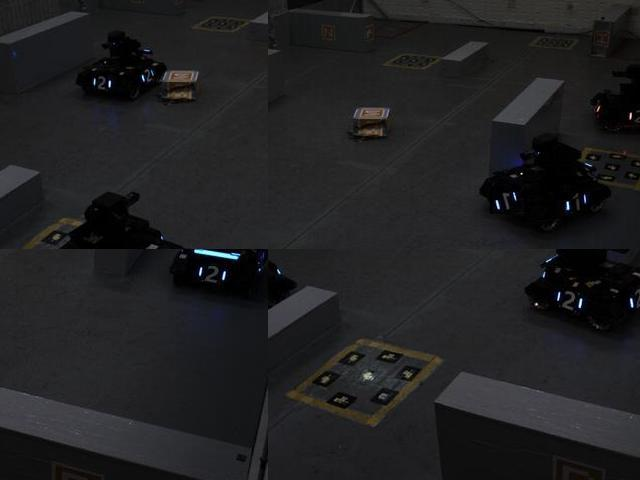armor: (192, 260, 231, 293), (553, 285, 588, 318), (558, 187, 592, 219), (491, 186, 526, 215), (134, 65, 158, 86), (89, 73, 113, 93), (624, 286, 639, 314), (625, 105, 639, 128)
